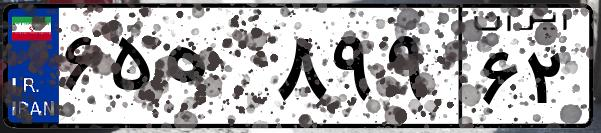2: (525, 38, 570, 115)
5: (110, 28, 158, 98)
6: (57, 26, 110, 100), (475, 38, 525, 113)
8: (270, 28, 330, 110)
9: (385, 28, 445, 110), (330, 28, 385, 110)
ه: (158, 20, 270, 120)
